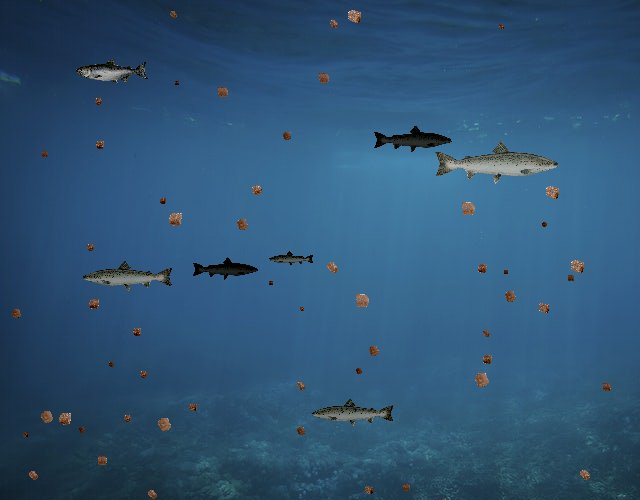Fish: (432, 139, 561, 185), (81, 260, 175, 294), (310, 397, 396, 428), (372, 125, 453, 154), (77, 59, 150, 85), (192, 256, 260, 281), (268, 250, 315, 267)
Pellet: (161, 206, 189, 234), (320, 256, 344, 280), (230, 212, 254, 236), (245, 178, 268, 201), (6, 303, 27, 324), (165, 6, 182, 23), (82, 239, 98, 255), (19, 429, 31, 441)
